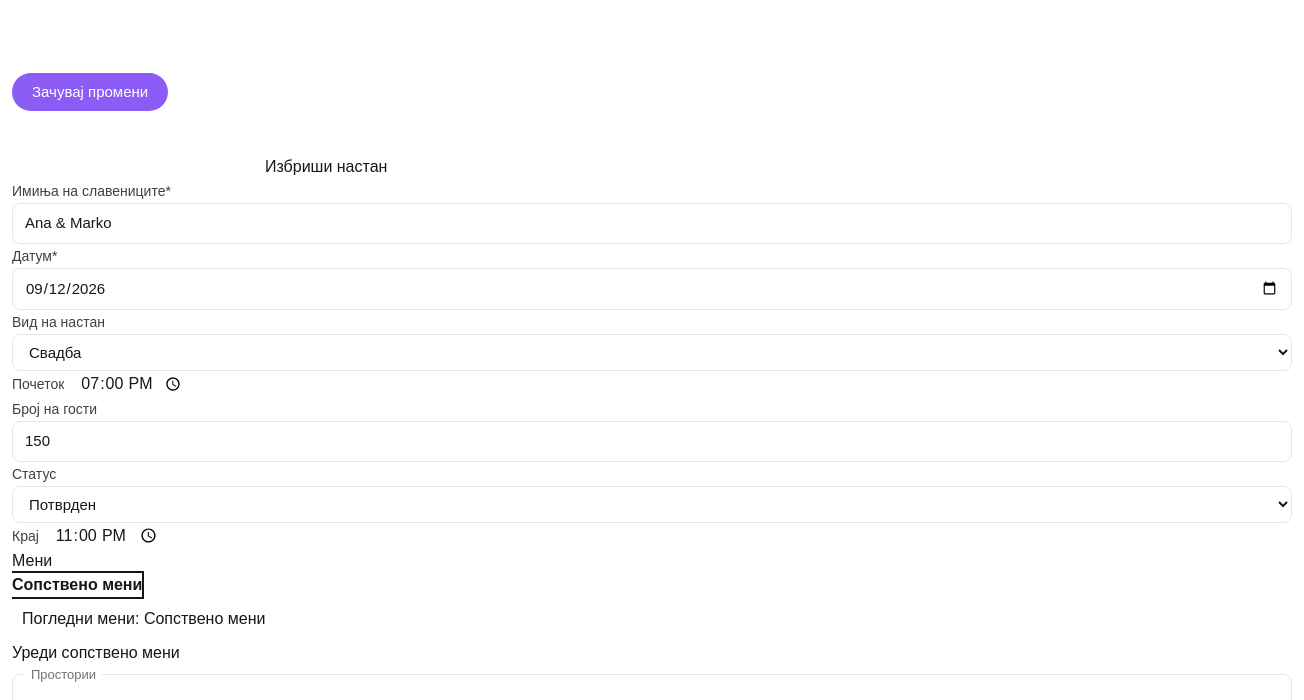
Test: EventEditForm › labels a custom menu selection and reveals its dishes behind Погледни мени
Expected: the button "Сопствено мени" is shown, [12, 572, 142, 596]
Expected: the text "Roast Chicken" is not shown
Click the button "Погледни мени: Сопствено мени" at point(144, 618), box [12, 602, 275, 634]
(page scrolled)
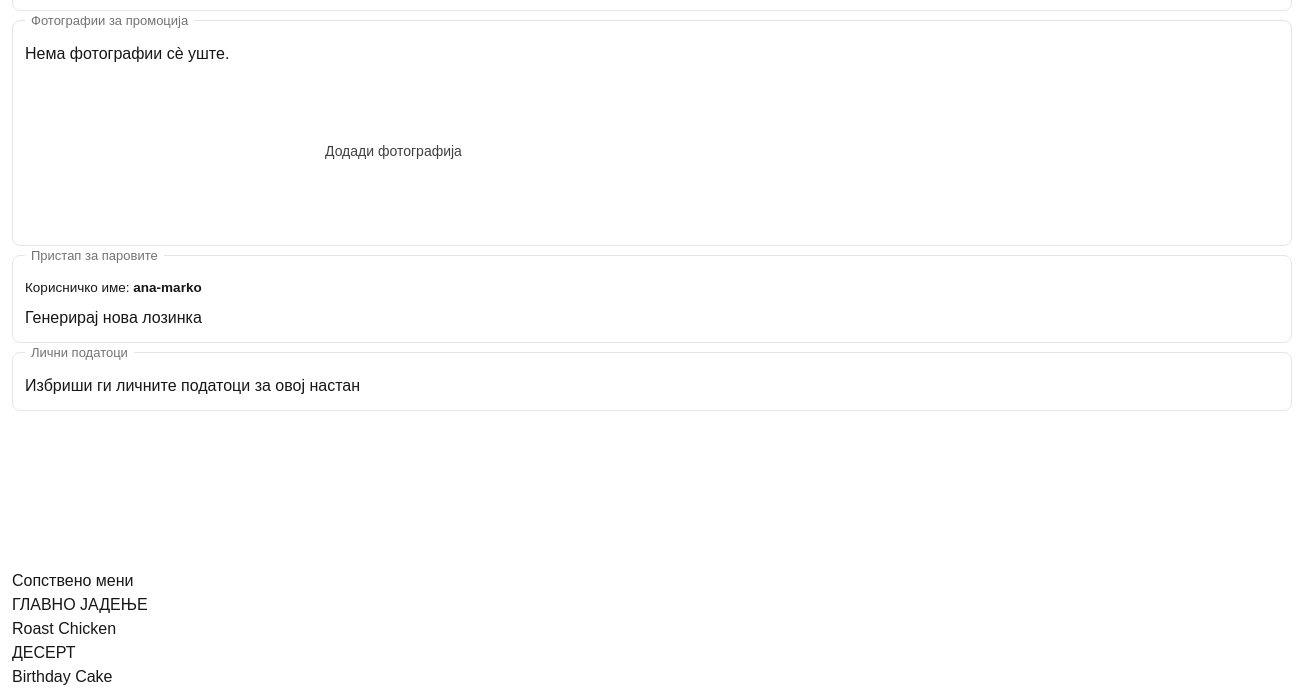
Expected: the text "Roast Chicken" is shown, [12, 620, 116, 637]
Expected: the text "Birthday Cake" is shown, [12, 668, 112, 685]
